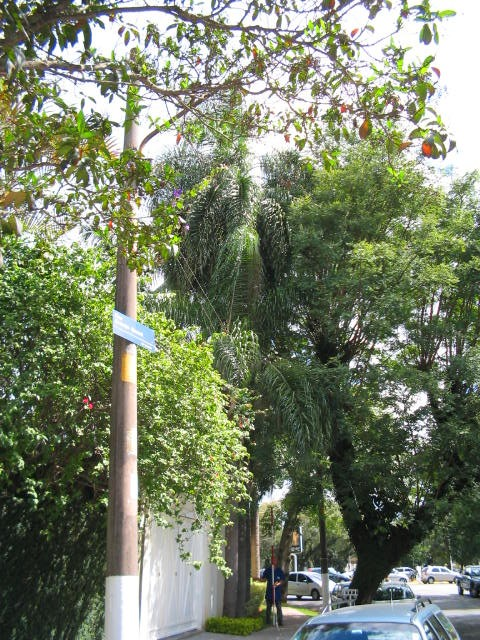crown: (278, 153, 477, 551)
stem: (330, 547, 394, 632)
stick: (264, 505, 279, 626)
tree: (276, 151, 477, 631)
